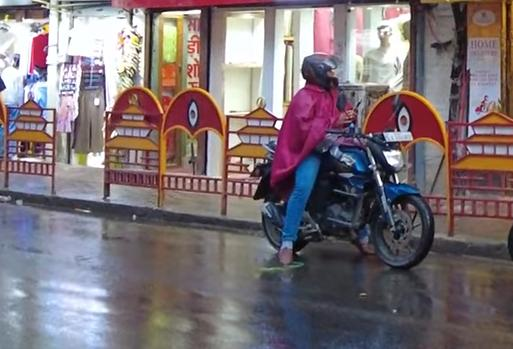bike: (253, 117, 440, 272)
